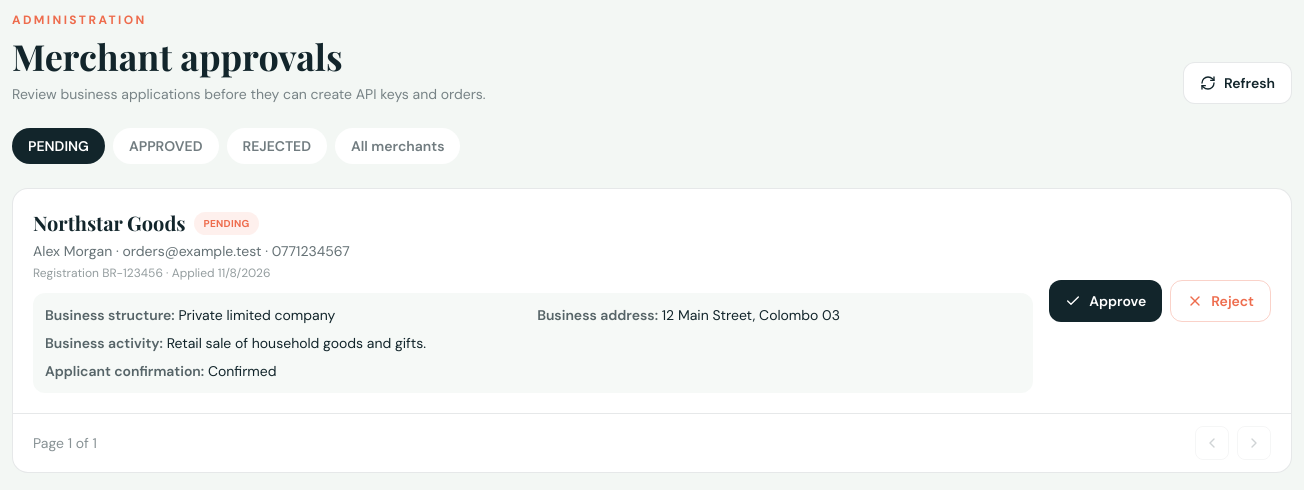
it: MerchantApprovalsPage › reloads the list when a status filter is selected
Expected: the heading "Northstar Goods" is shown, [33, 209, 186, 237]
Step 1. Click the button "APPROVED" → {"x": 166, "y": 146}, box [113, 128, 218, 164]
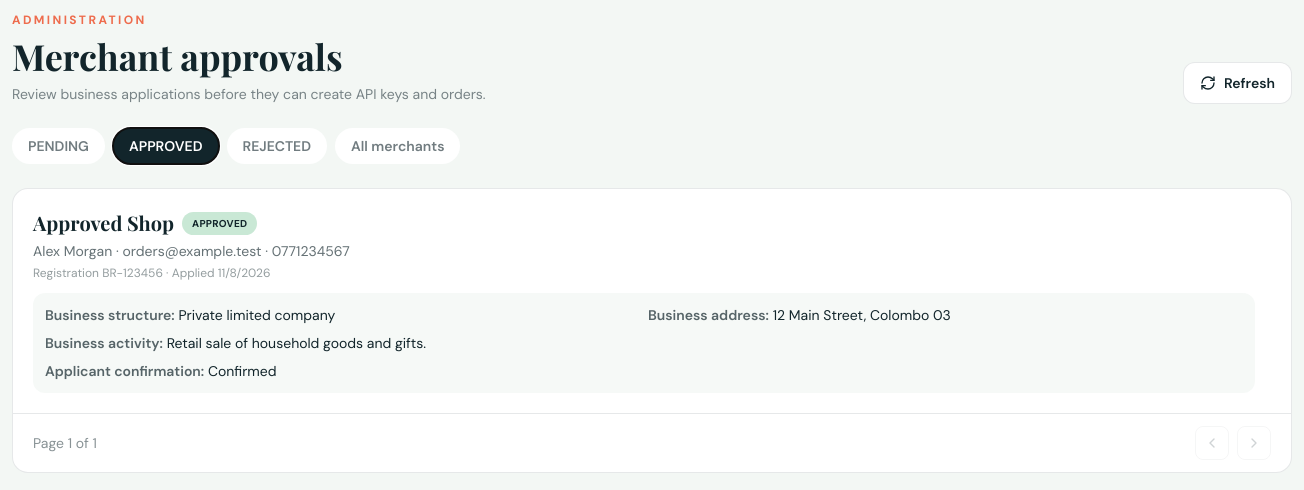
Now the heading "Approved Shop" is shown, box [33, 209, 174, 237]
